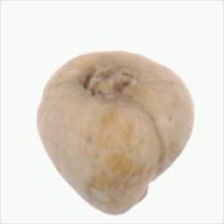L4: (35, 51, 195, 216)
